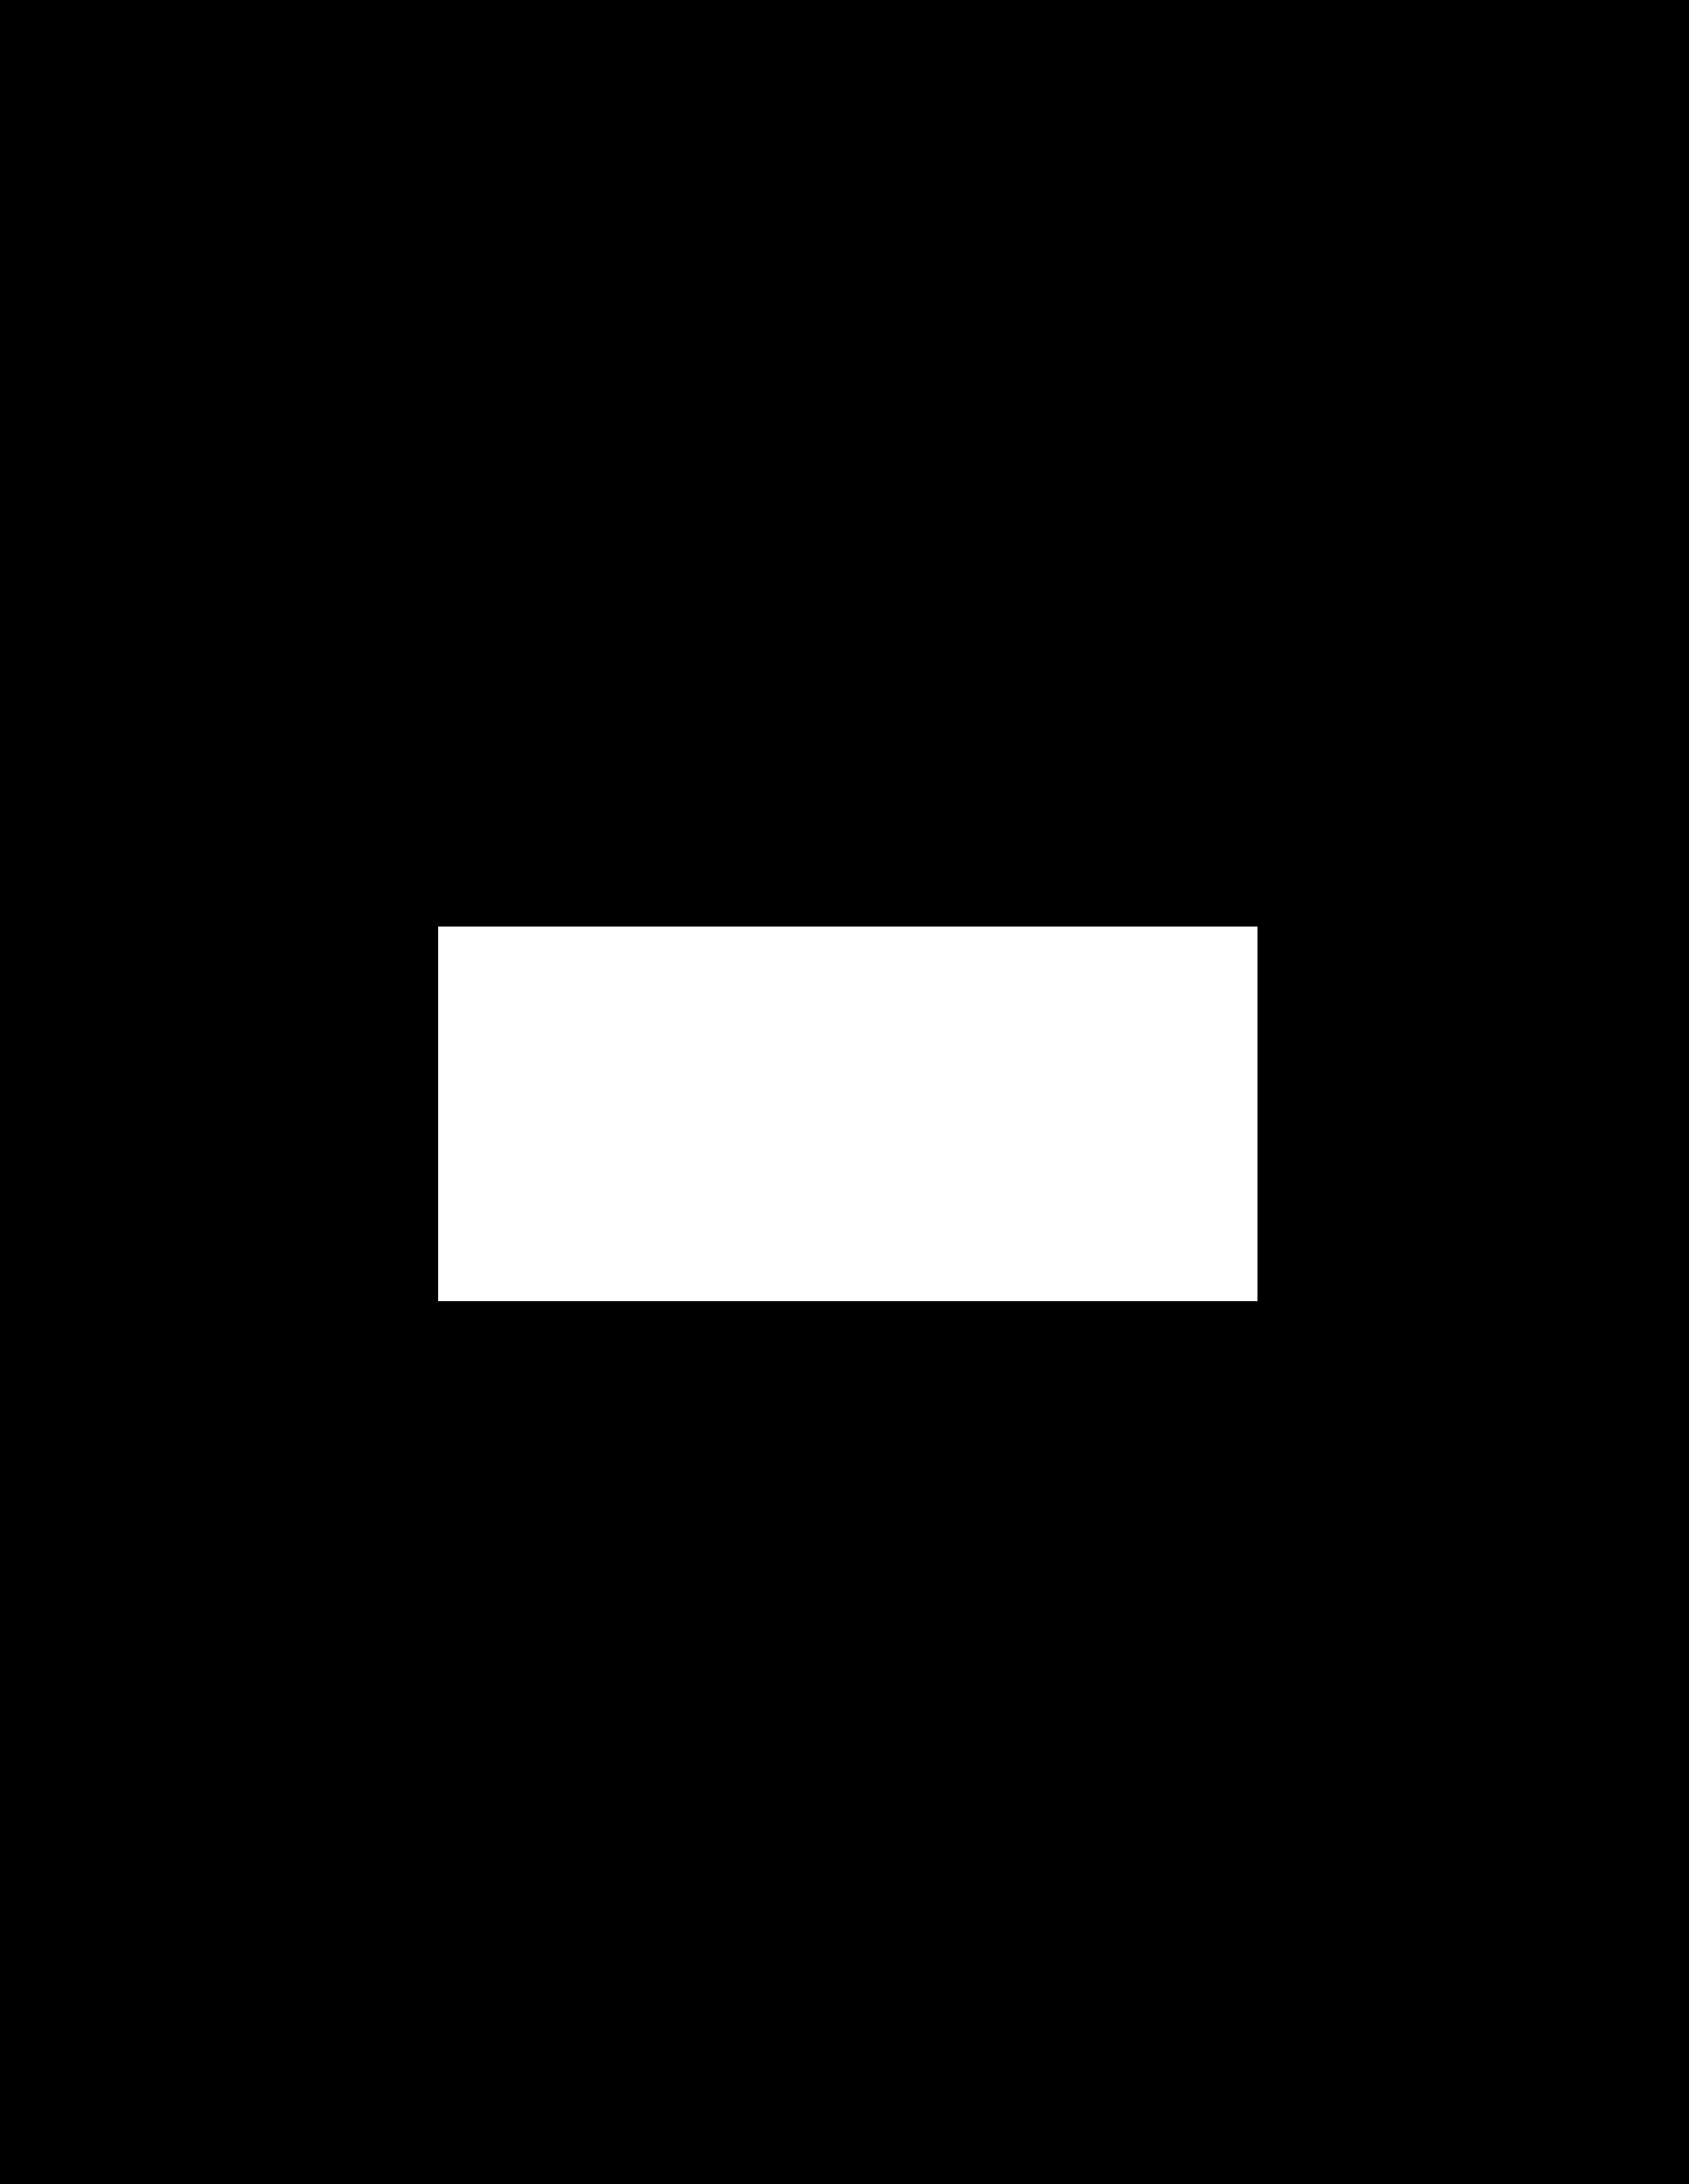table: (438, 927, 1257, 1301)
